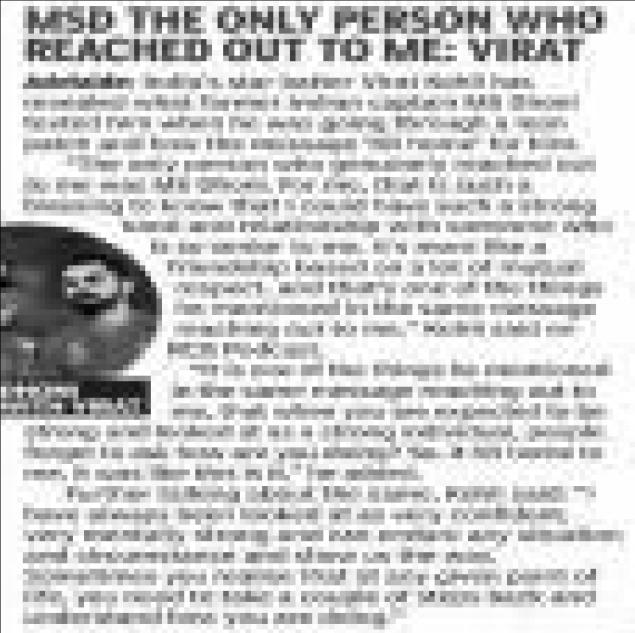paper: (1, 1, 635, 632)
